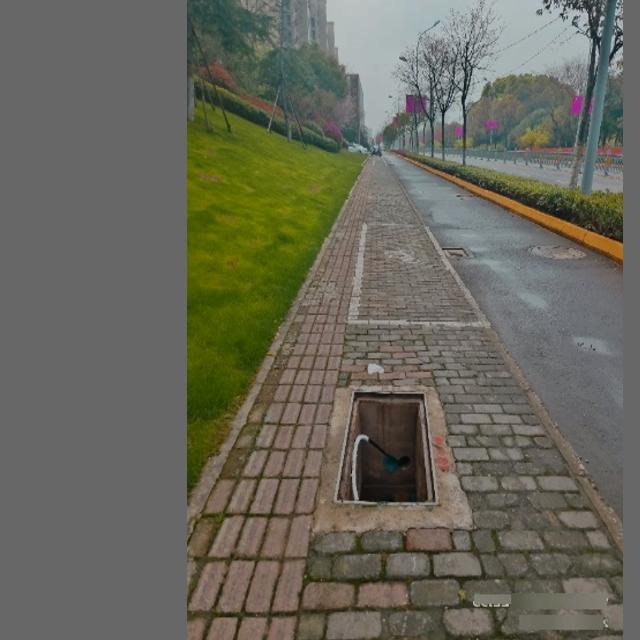lose: (333, 388, 439, 503)
